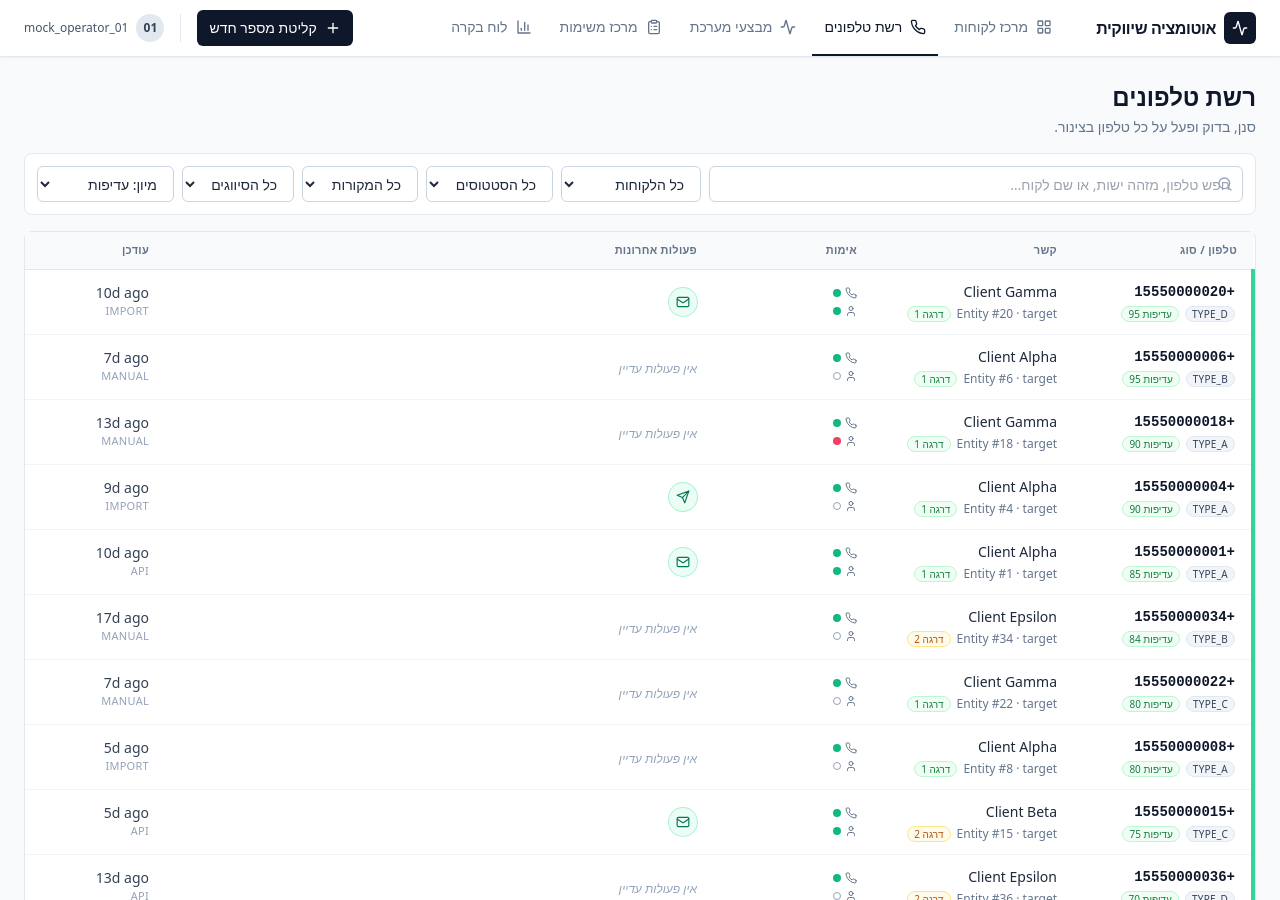
Test case: Phase DY-4-C — Vector A verdict form › selecting an axis enables submit and the click completes
Expected: the heading "רשת טלפונים" is shown, [1112,80,1256,113]
Click the text "+15550000020" at (1185, 292), box [1134,284,1235,300]
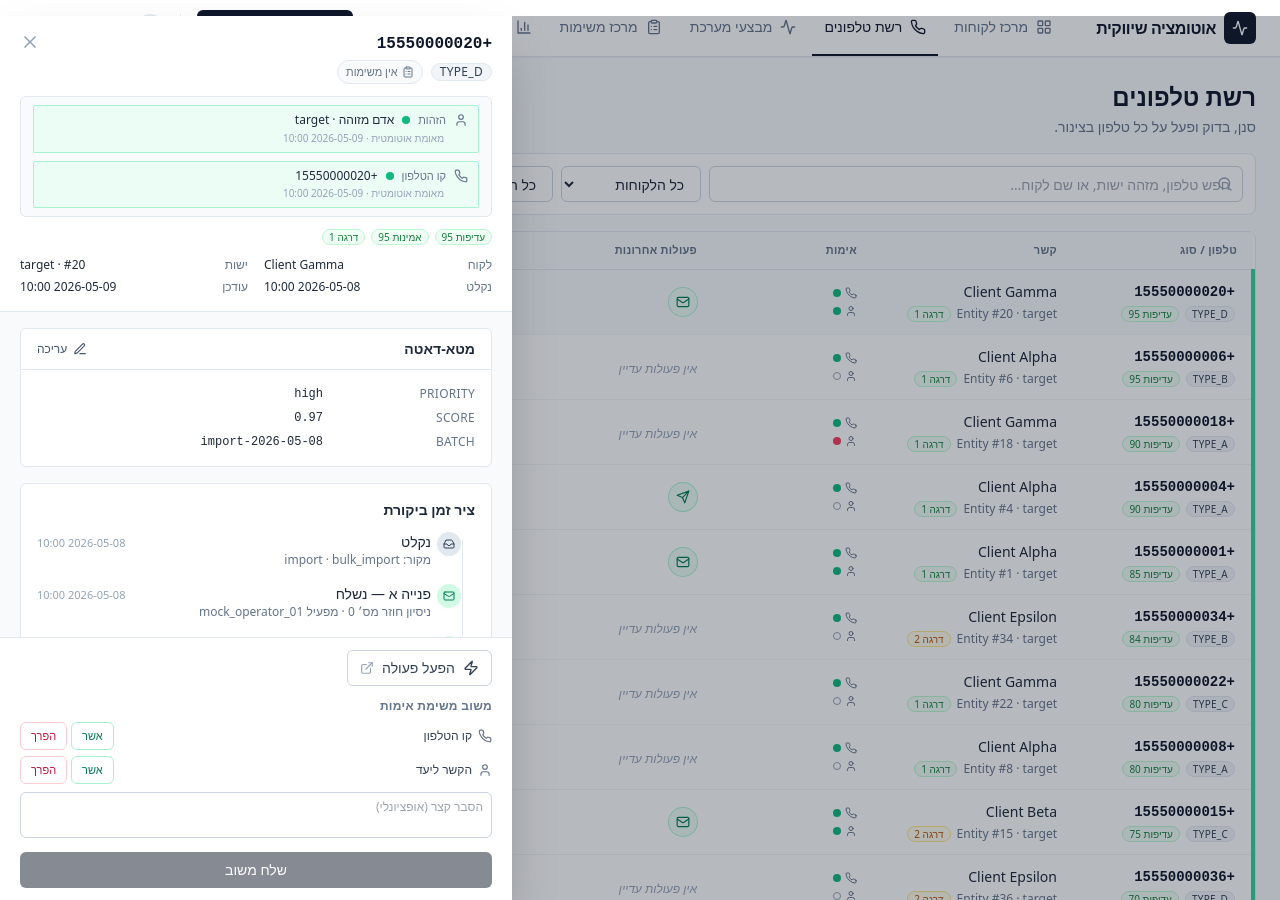
Click the 1st button "אשר" at (92, 736), box [71,722,114,750]
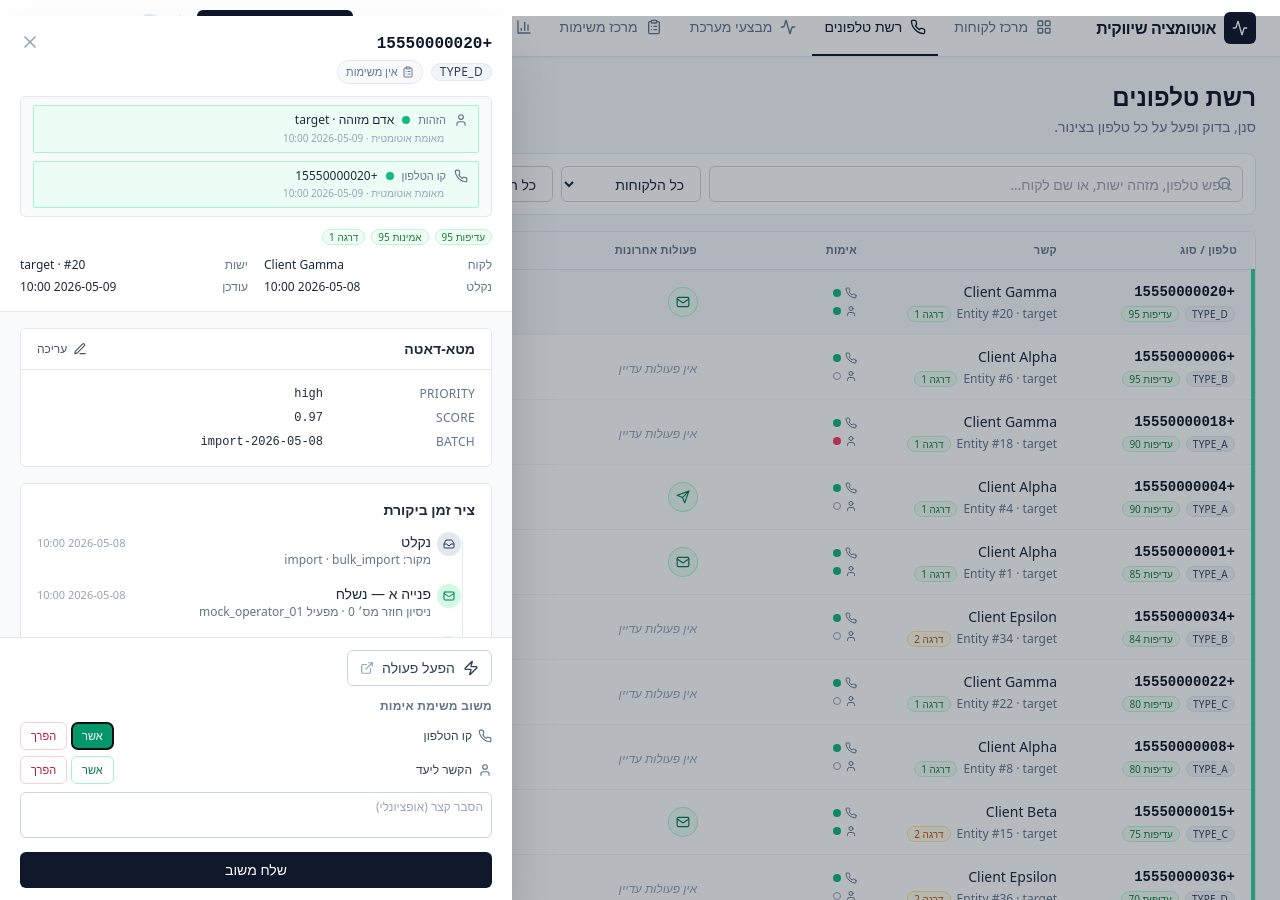
Expected: the button "שלח משוב" is enabled
Click the button "שלח משוב" at (256, 870), box [20,852,492,888]
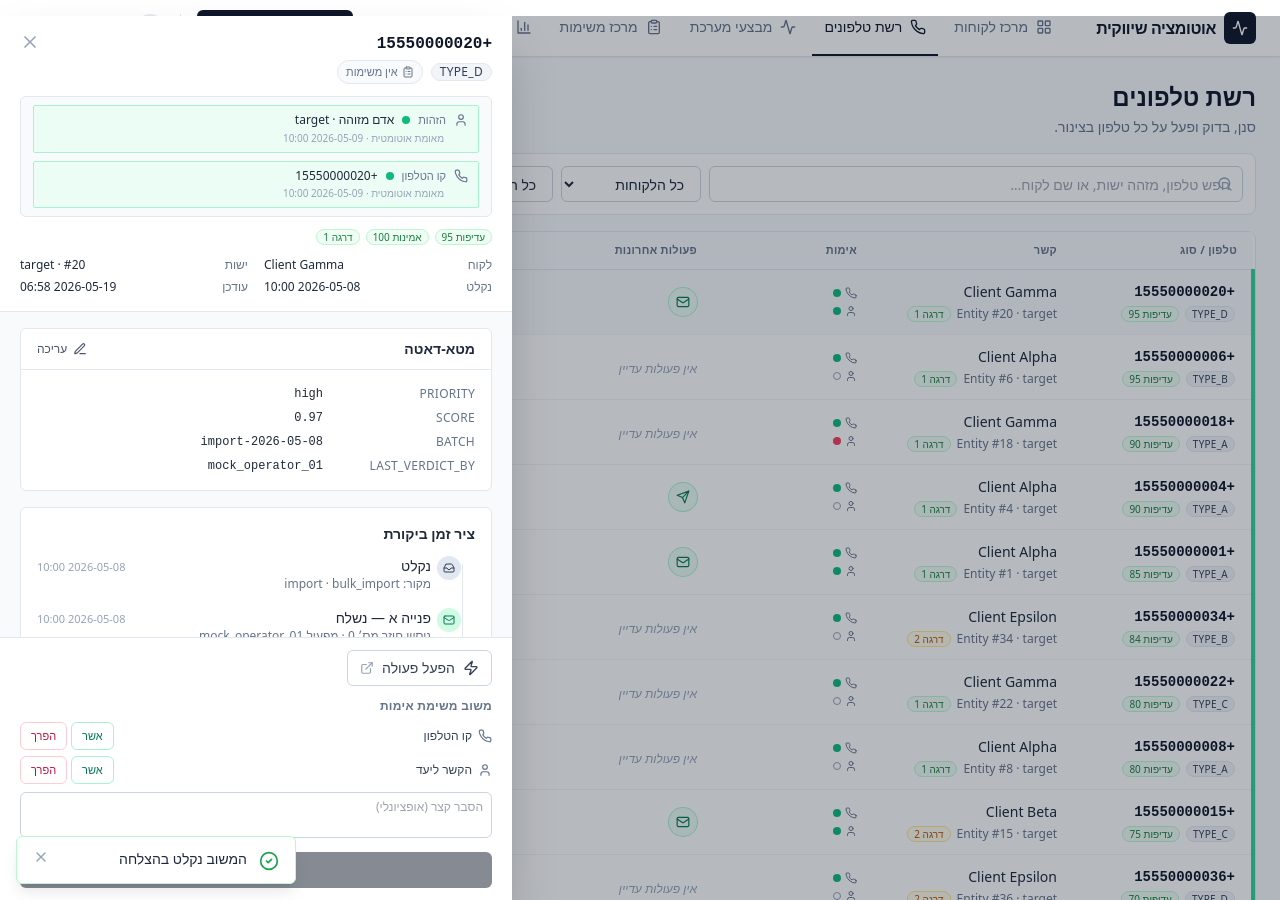
Expected: the text "המשוב נקלט בהצלחה" is shown, [119,849,247,868]
